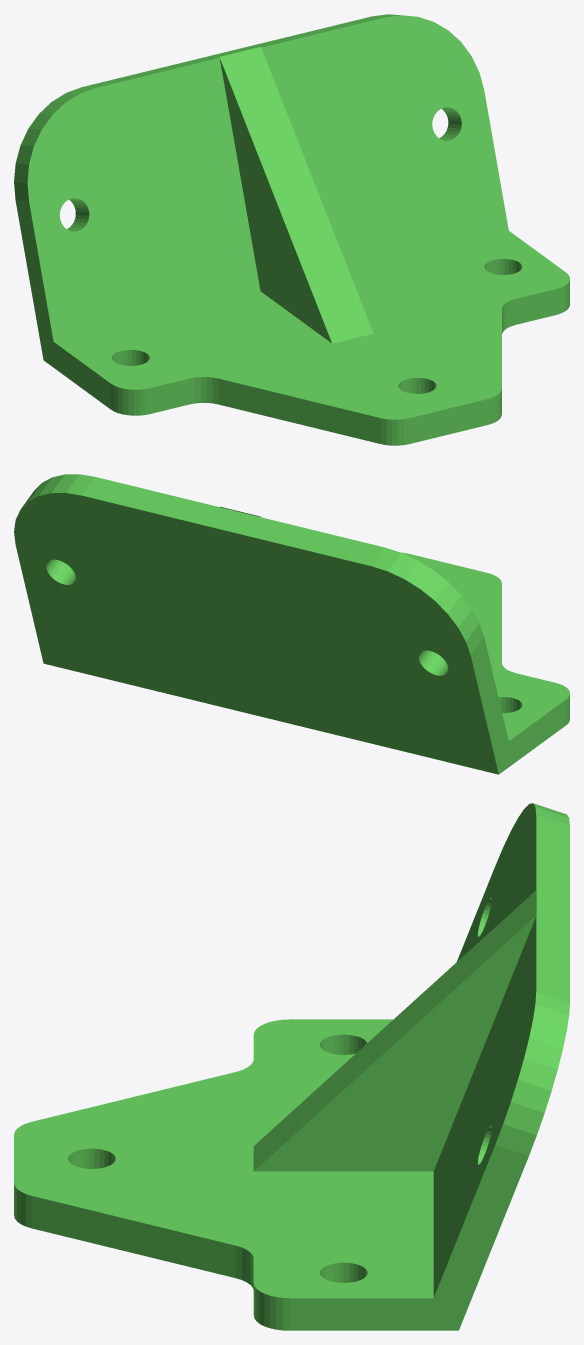
Rendered from nano_chassis_rs_mount.dae.
The picture shows the model from 3 angles, top to bottom: view 1: azimuth 30°, elevation 25°; view 2: azimuth 150°, elevation 25°; view 3: azimuth 270°, elevation 25°; orthographic projection. The views are drawn at different scales.
Parts seen in each view (by area): view 1: Nano_Chassis_-_RS_mount; view 2: Nano_Chassis_-_RS_mount; view 3: Nano_Chassis_-_RS_mount.
Boxes of the visible parts, x1,y1,x2,y2 form: Nano_Chassis_-_RS_mount: (14, 14, 569, 445); Nano_Chassis_-_RS_mount: (14, 474, 569, 774); Nano_Chassis_-_RS_mount: (14, 803, 569, 1330).
Size of the model in its own units: 0.55 by 0.4637 by 0.2658.
